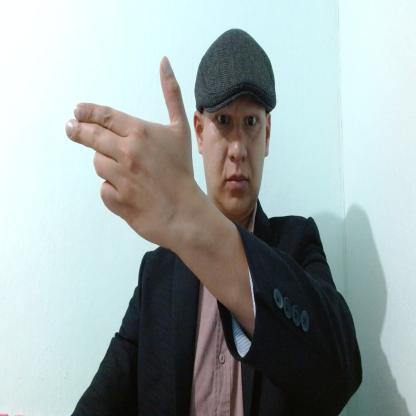H: (63, 53, 192, 243)
